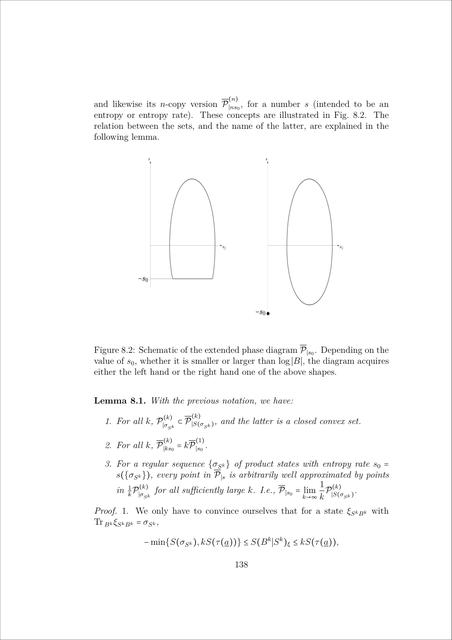box: (253, 154, 346, 318), (137, 154, 229, 293)
